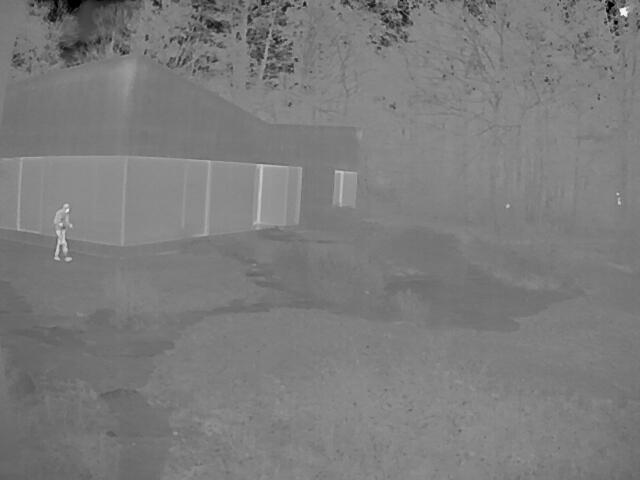person: (52, 201, 72, 261)
